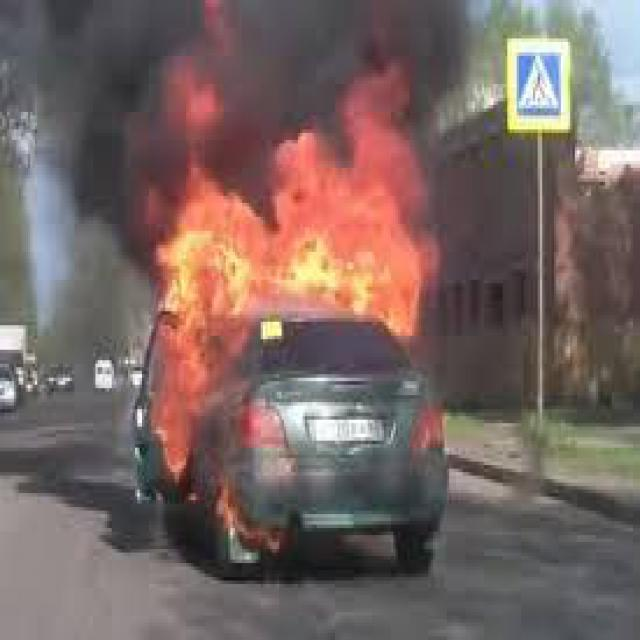fire: (143, 85, 445, 466)
